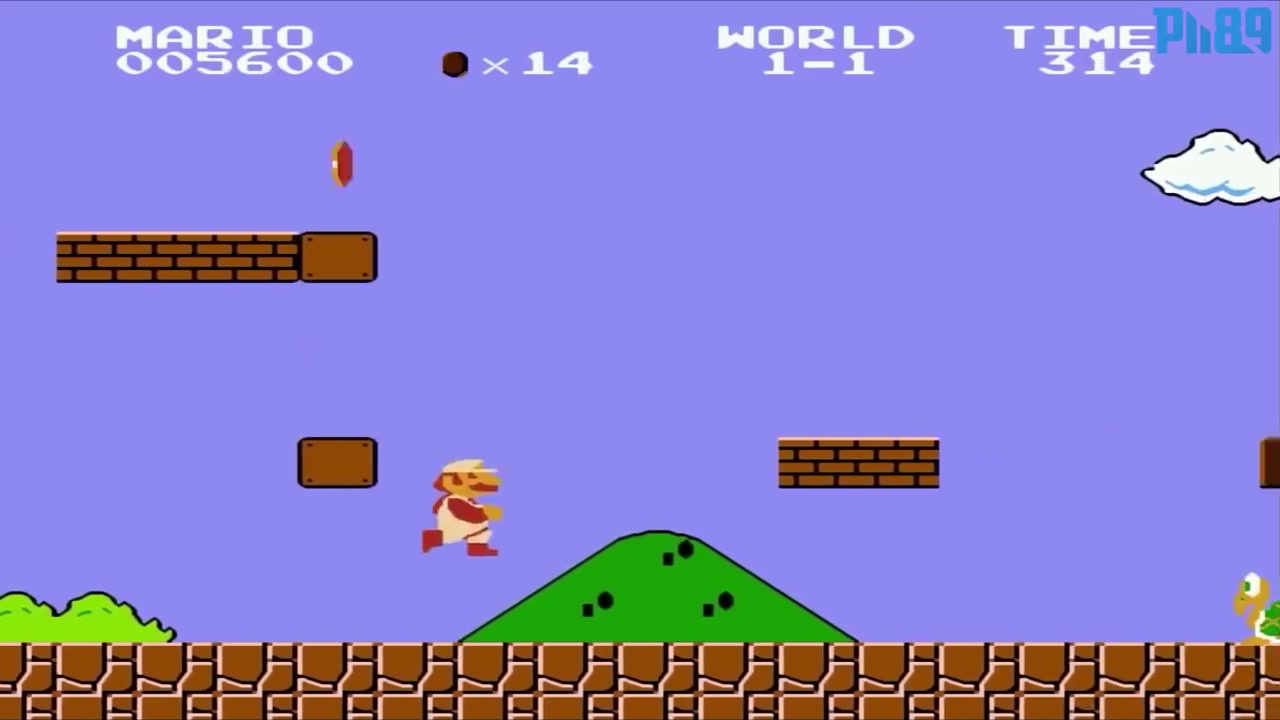mario: (424, 456, 504, 559)
